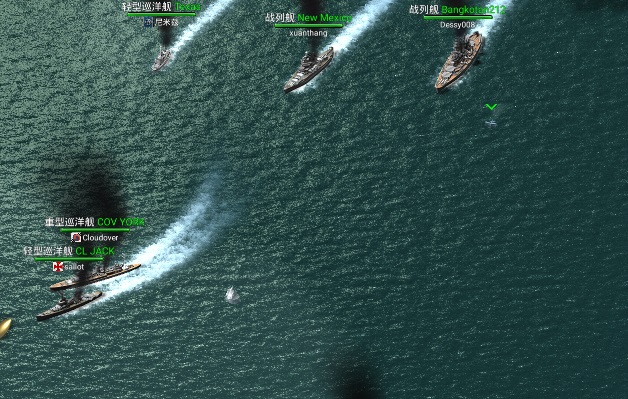ship: (432, 31, 486, 93), (281, 44, 335, 94), (49, 266, 147, 290), (34, 291, 105, 322), (145, 36, 173, 73)
